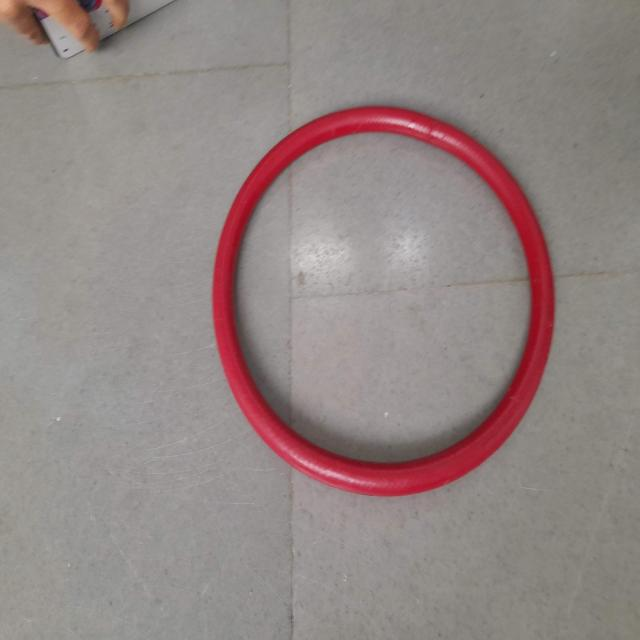daire: (214, 106, 555, 499)
